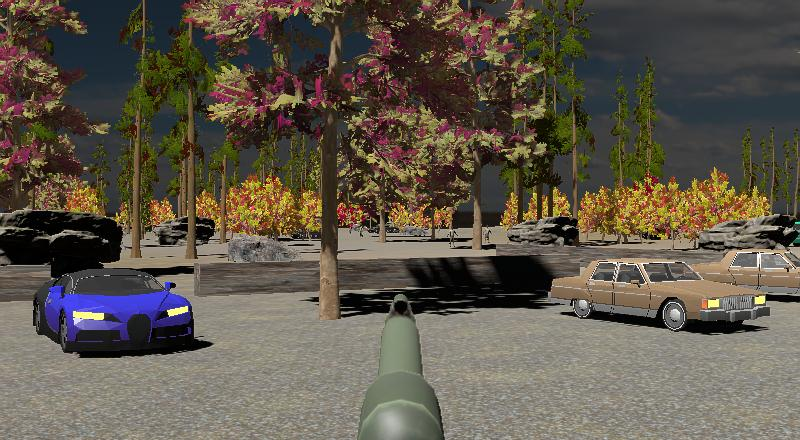car: (549, 257, 770, 332), (30, 266, 196, 353), (682, 248, 800, 302)
